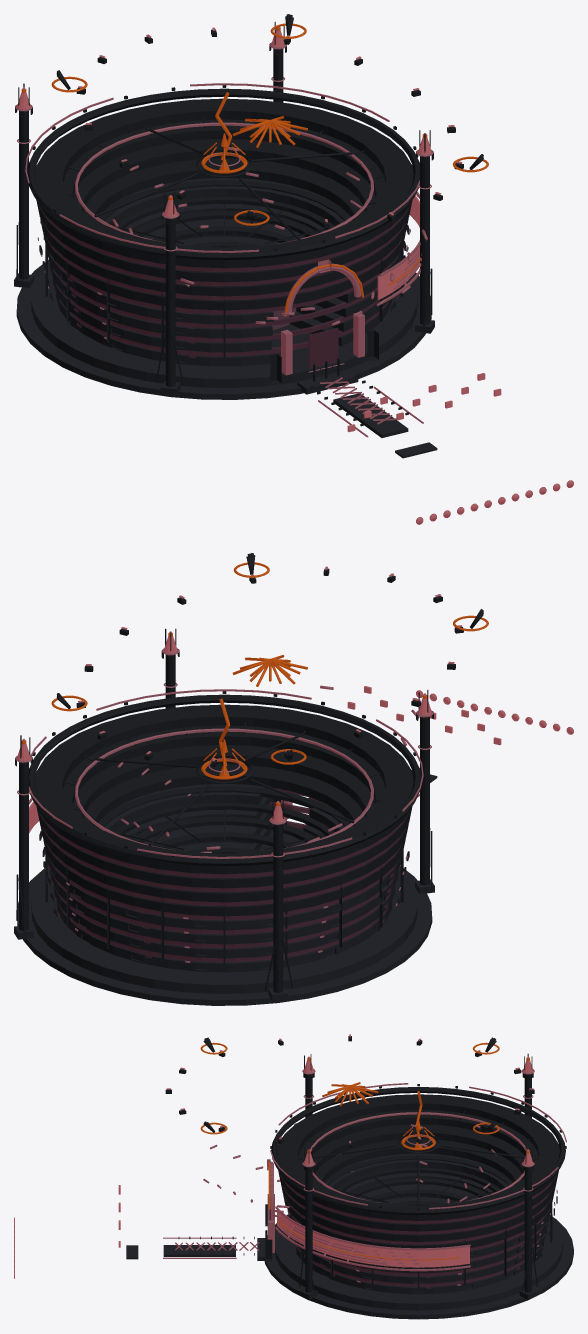
File: leaderboard-ext.glb
3 views of the same model, one above another, from view 1: azimuth 30°, elevation 25°; view 2: azimuth 150°, elevation 25°; view 3: azimuth 270°, elevation 25° (orthographic). The views are drawn at different scales.
Visible parts, largest first — view 1: leaderboard_s75_detail_combined_mesh, leaderboard_s75_base_combined_mesh, leaderboard_s75_glass_combined_mesh, leaderboard_s75_accent_combined_mesh, leaderboard_s75_energy_combined_mesh, leaderboard_s75_emissive_combined_mesh; view 2: leaderboard_s75_detail_combined_mesh, leaderboard_s75_base_combined_mesh, leaderboard_s75_glass_combined_mesh, leaderboard_s75_accent_combined_mesh, leaderboard_s75_energy_combined_mesh, leaderboard_s75_emissive_combined_mesh; view 3: leaderboard_s75_detail_combined_mesh, leaderboard_s75_base_combined_mesh, leaderboard_s75_accent_combined_mesh, leaderboard_s75_glass_combined_mesh, leaderboard_s75_emissive_combined_mesh, leaderboard_s75_energy_combined_mesh.
Boxes of the visible parts, bbox=[...] form: leaderboard_s75_detail_combined_mesh: bbox=[15, 14, 483, 426]; leaderboard_s75_base_combined_mesh: bbox=[14, 177, 437, 458]; leaderboard_s75_glass_combined_mesh: bbox=[40, 207, 408, 368]; leaderboard_s75_accent_combined_mesh: bbox=[15, 42, 433, 437]; leaderboard_s75_energy_combined_mesh: bbox=[21, 23, 488, 316]; leaderboard_s75_emissive_combined_mesh: bbox=[17, 27, 573, 524]; leaderboard_s75_detail_combined_mesh: bbox=[15, 553, 483, 992]; leaderboard_s75_base_combined_mesh: bbox=[14, 770, 437, 1005]; leaderboard_s75_glass_combined_mesh: bbox=[41, 788, 407, 962]; leaderboard_s75_accent_combined_mesh: bbox=[15, 648, 433, 962]; leaderboard_s75_energy_combined_mesh: bbox=[21, 562, 488, 806]; leaderboard_s75_emissive_combined_mesh: bbox=[17, 566, 573, 833]; leaderboard_s75_detail_combined_mesh: bbox=[165, 1036, 566, 1293]; leaderboard_s75_base_combined_mesh: bbox=[126, 1153, 573, 1319]; leaderboard_s75_accent_combined_mesh: bbox=[163, 1069, 566, 1285]; leaderboard_s75_glass_combined_mesh: bbox=[269, 1175, 557, 1288]; leaderboard_s75_emissive_combined_mesh: bbox=[14, 1034, 533, 1278]; leaderboard_s75_energy_combined_mesh: bbox=[200, 1042, 529, 1260].
Bounding box in the file's own units: 18.4 × 11.37 × 33.15.
